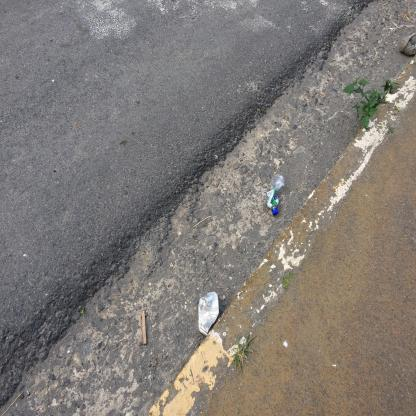trash: (196, 288, 224, 344), (261, 170, 287, 224)
